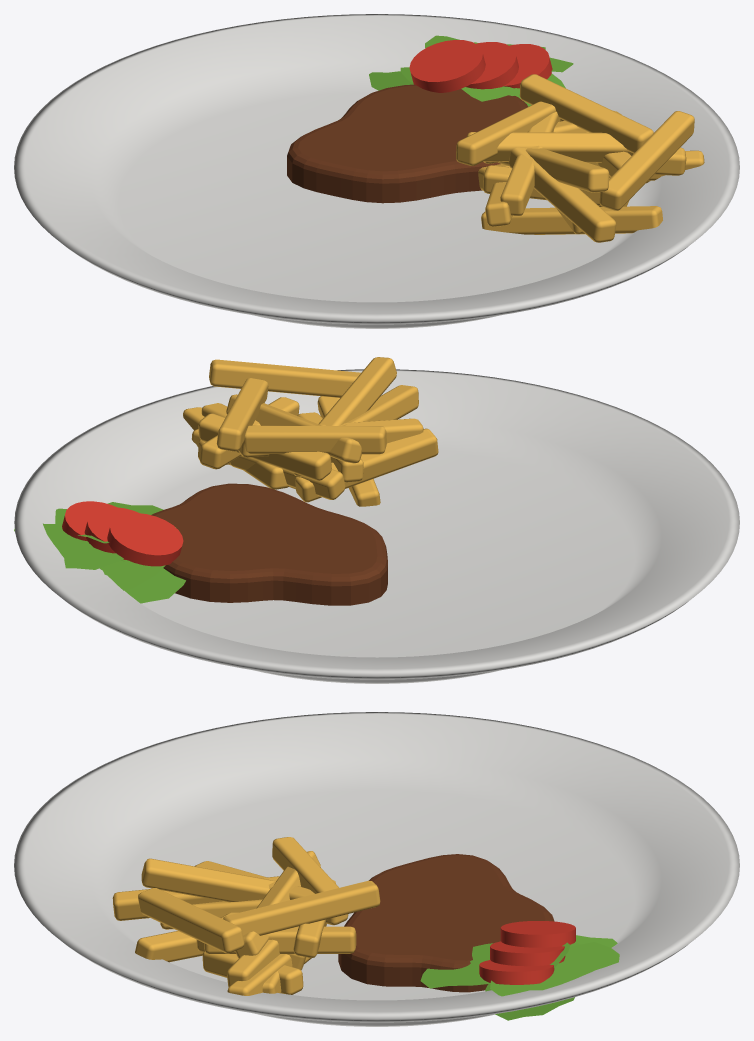
Rendered from bife-ancho.glb.
The picture shows the model from 3 angles, top to bottom: view 1: azimuth 30°, elevation 25°; view 2: azimuth 150°, elevation 25°; view 3: azimuth 270°, elevation 25°; orthographic projection.
Size of the model in its own units: 0.27 by 0.0451 by 0.27.
